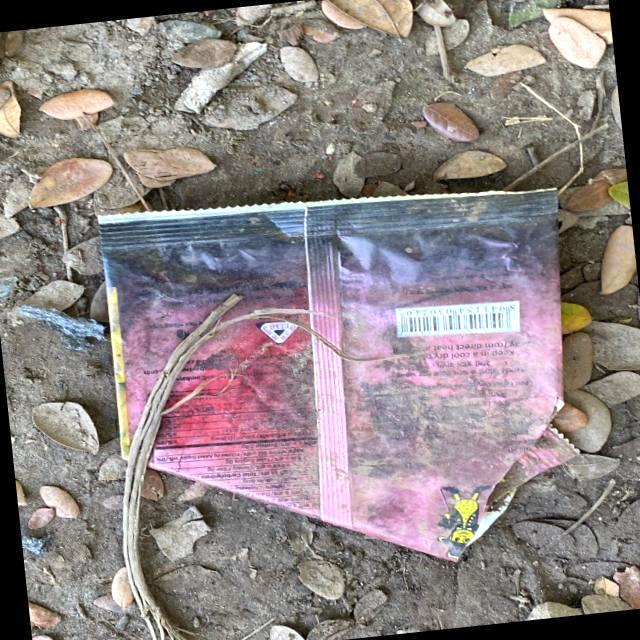packet: (89, 162, 591, 595)
